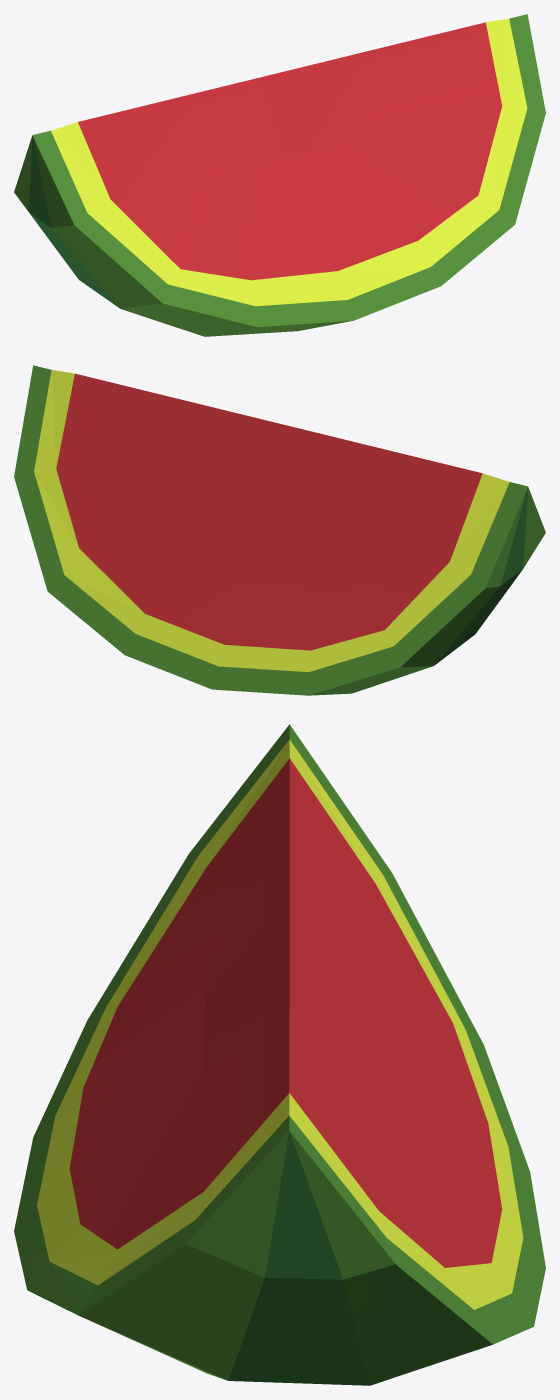
The model's file is food_melon-slice.fbx.
The picture shows the model from 3 angles, top to bottom: view 1: azimuth 30°, elevation 25°; view 2: azimuth 150°, elevation 25°; view 3: azimuth 270°, elevation 25°; orthographic projection. The views are drawn at different scales.
Visible parts, largest first — view 1: food_melon_slice; view 2: food_melon_slice; view 3: food_melon_slice.
Part boxes in pixels (<box>): food_melon_slice: <box>14,14,545,336</box>; food_melon_slice: <box>14,365,545,695</box>; food_melon_slice: <box>14,724,545,1385</box>.
Bounding box in the file's own units: 200 × 93.07 × 111.
